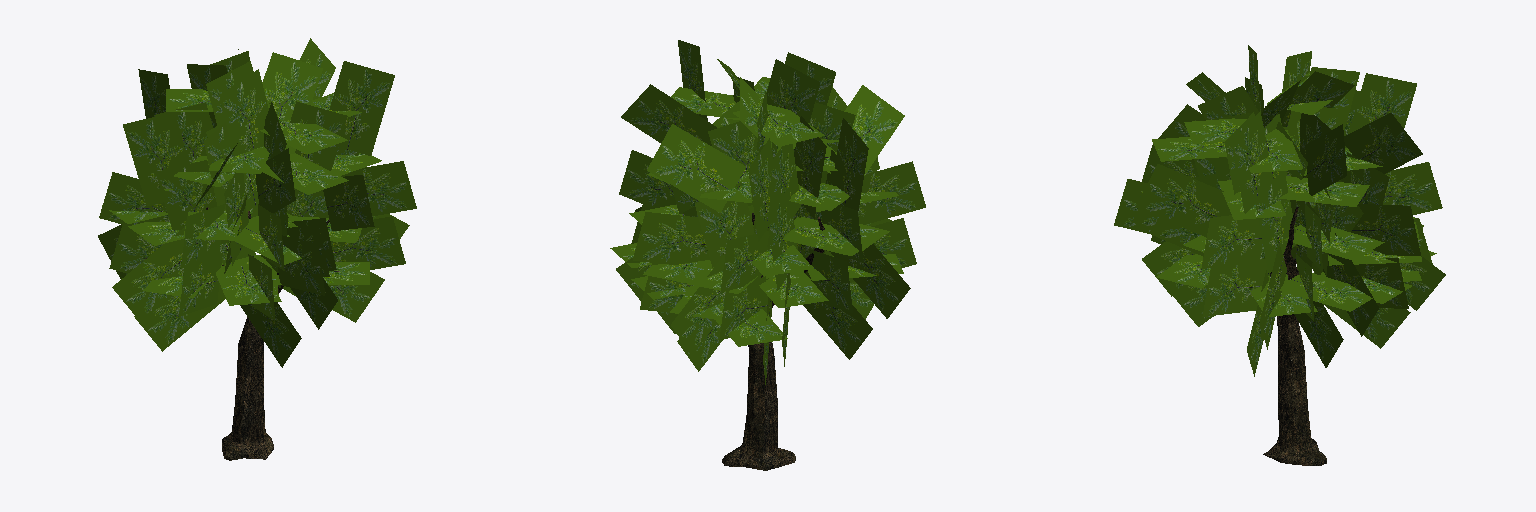
3 renders of one model, left to right at view 1: azimuth 30°, elevation 25°; view 2: azimuth 150°, elevation 25°; view 3: azimuth 270°, elevation 25°, orthographic.
Visible parts, largest first — view 1: Branch266.001, Trunk020.001; view 2: Branch266.001, Trunk020.001; view 3: Branch266.001, Trunk020.001.
Boxes of the visible parts, box(x1,y1,x2,y2) form: Branch266.001: box(98, 38, 416, 367); Trunk020.001: box(206, 207, 329, 460); Branch266.001: box(610, 40, 925, 384); Trunk020.001: box(722, 213, 824, 470); Branch266.001: box(1114, 45, 1445, 376); Trunk020.001: box(1263, 202, 1326, 465).
Size of the model in its own units: 0.7735 by 1.02 by 0.7761.
Materials: 2 (2 with a texture image).